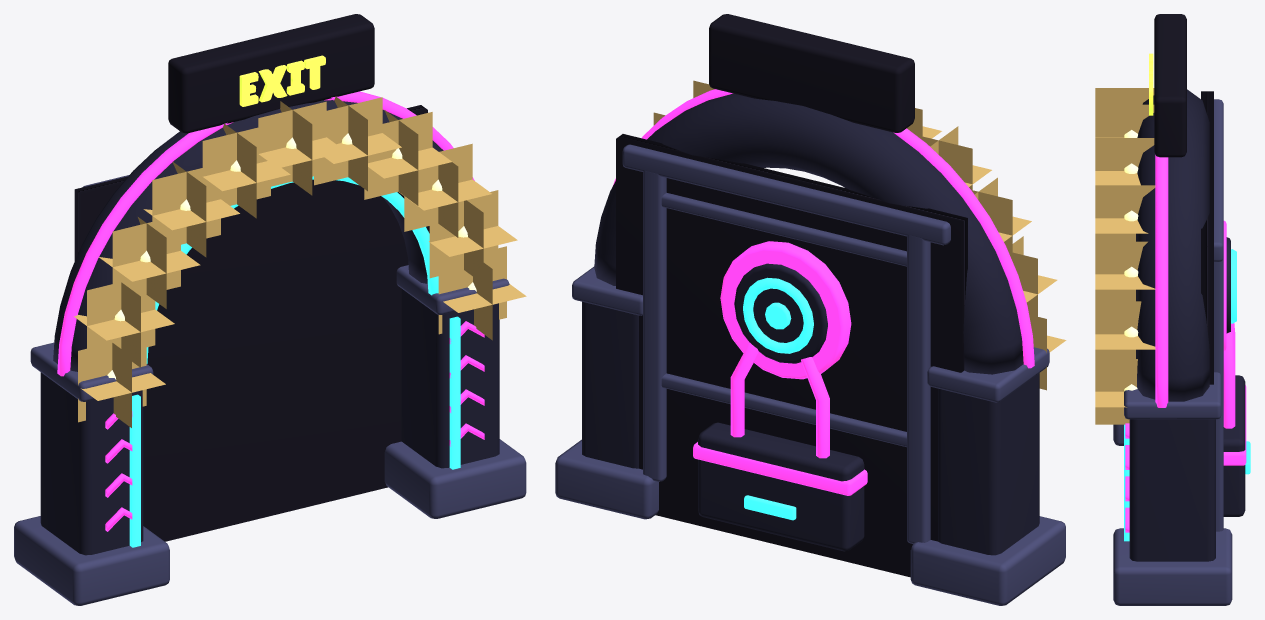
The model's file is neon_portal_arch.glb.
3 views of the same model, side by side, from view 1: azimuth 30°, elevation 25°; view 2: azimuth 150°, elevation 25°; view 3: azimuth 270°, elevation 25° (orthographic). The views are drawn at different scales.
Visible parts, largest first — view 1: PortalArch; view 2: PortalArch; view 3: PortalArch.
Boxes of the visible parts, x1=… form: PortalArch: x1=14, y1=14, x2=526, y2=605; PortalArch: x1=555, y1=14, x2=1066, y2=605; PortalArch: x1=1095, y1=14, x2=1250, y2=605.
Bounding box in the file's own units: 4.45 × 4.61 × 1.44.
